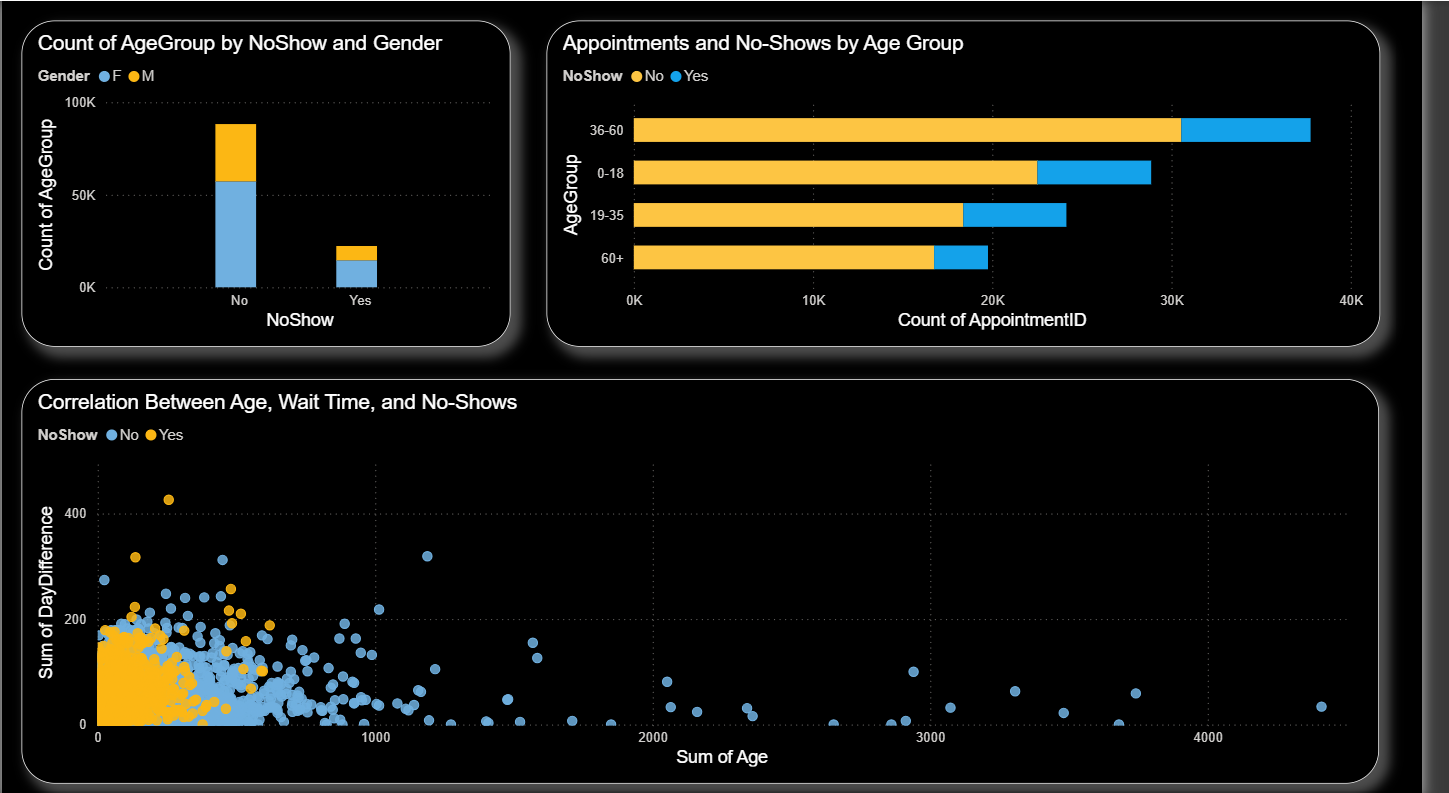

Layout of this report page (visuals, bound fields, positions):
{"tool":"powerbi","page":{"name":"Age_Wise_No_Show_Analysis","canvas":[1280,720],"ordinal":2},"visuals":[{"type":"scatterChart","title":"Correlation Between Age, Wait Time, and No-Shows","fields":{"X":["Sum(KaggleV2-May-2016.Age)"],"Series":["KaggleV2-May-2016.NoShow"],"Category":["KaggleV2-May-2016.PatientId"],"Y":["Sum(KaggleV2-May-2016.DayDifference)"]},"box":[18.2,340.7,1223.5,364.9],"z":0},{"type":"barChart","title":"Appointments and No-Shows by Age Group","fields":{"Category":["KaggleV2-May-2016.AgeGroup"],"Series":["KaggleV2-May-2016.NoShow"],"Y":["CountNonNull(KaggleV2-May-2016.AppointmentID)"]},"box":[490.6,18.2,751,293.8],"z":1000},{"type":"columnChart","fields":{"Series":["KaggleV2-May-2016.Gender"],"Category":["KaggleV2-May-2016.NoShow"],"Y":["CountNonNull(KaggleV2-May-2016.AgeGroup)"]},"box":[18.2,18.2,440.6,293.8],"z":2000}]}

Visuals, with their boxes in screenshot pixels (x1, y1, x2, y2), scaled from the page's 1280x720 canvas onto the 1449x793 screenshot:
"Correlation Between Age, Wait Time, and No-Shows" scatterChart: l=21, t=375, r=1406, b=777
"Appointments and No-Shows by Age Group" barChart: l=555, t=20, r=1406, b=344
columnChart - KaggleV2-May-2016.Gender x KaggleV2-May-2016.NoShow: l=21, t=20, r=519, b=344
